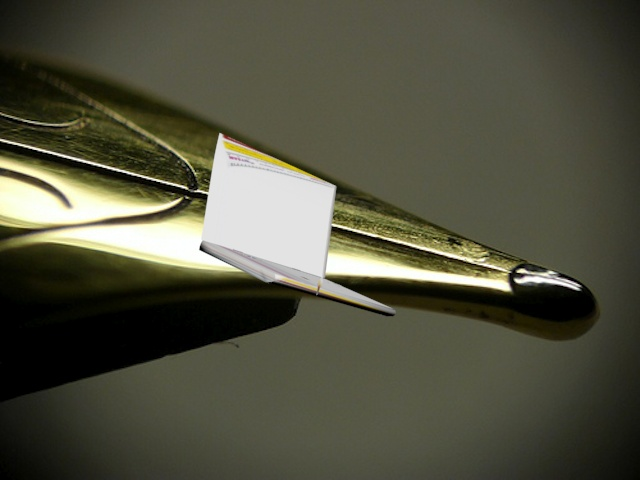laptop_computer: (193, 128, 400, 320)
